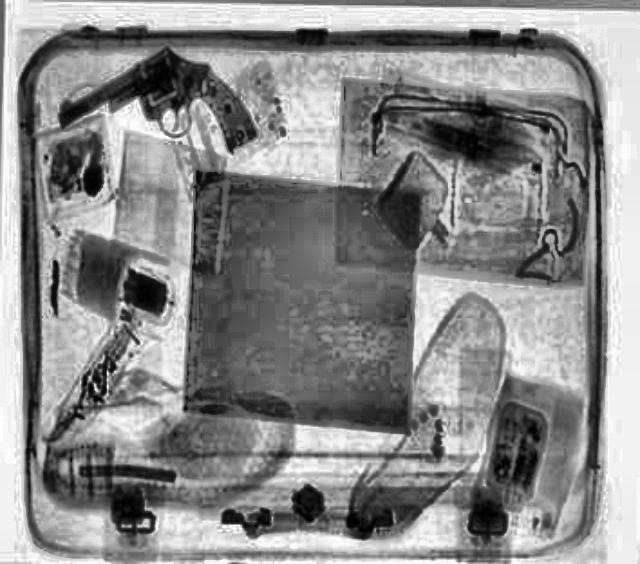Gun: (54, 42, 258, 154)
